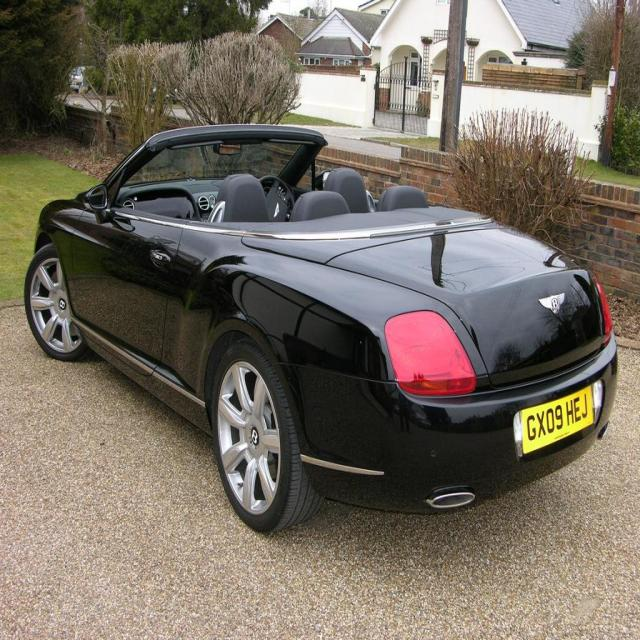car: (20, 122, 621, 551)
